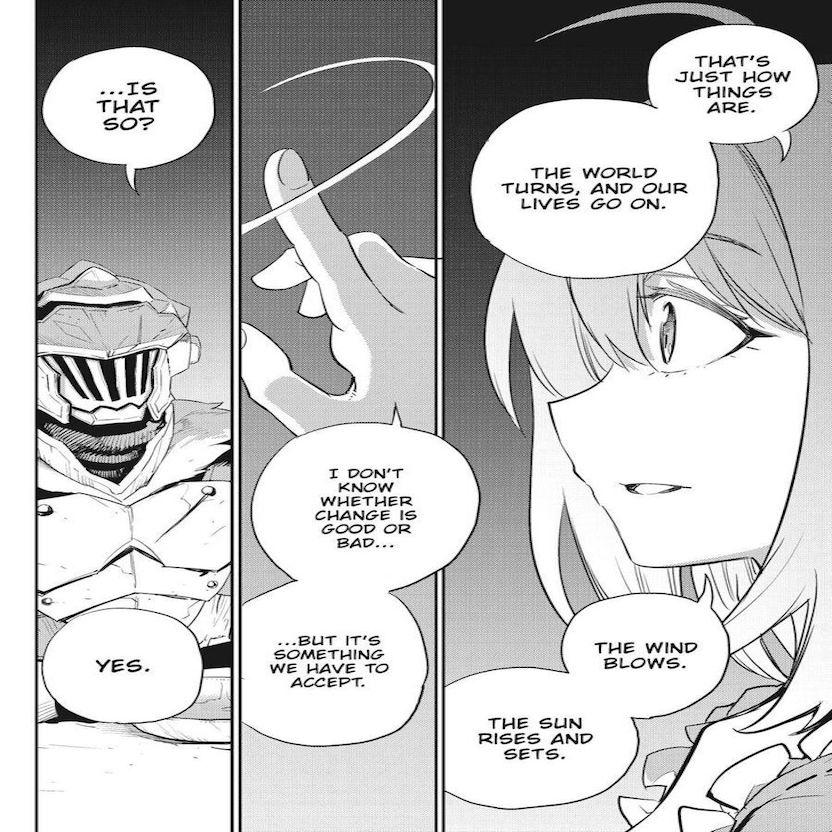Bubble: (246, 419, 486, 581), (467, 141, 722, 281), (236, 594, 432, 749), (39, 43, 219, 171), (41, 606, 205, 727), (441, 714, 643, 812), (646, 21, 823, 117), (559, 589, 733, 675)
